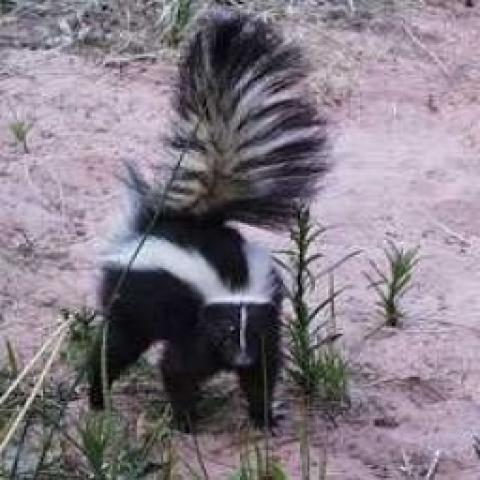small_animal: (80, 17, 340, 435)
